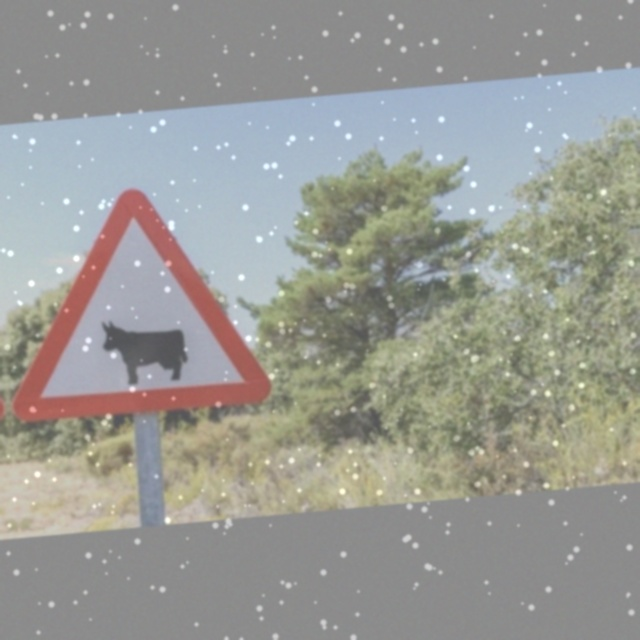Cattle: (27, 189, 260, 423)
